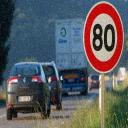speed_limit_80: (82, 1, 124, 72)
